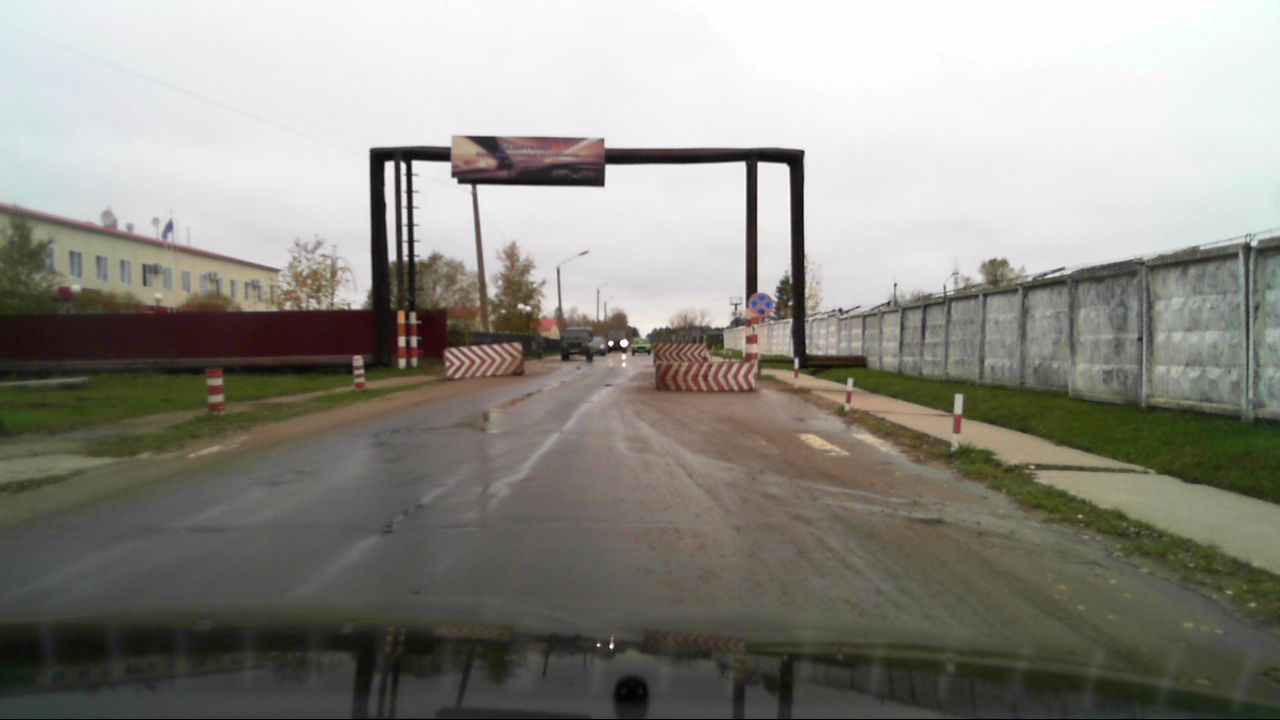No Parking: (748, 292, 773, 316)
